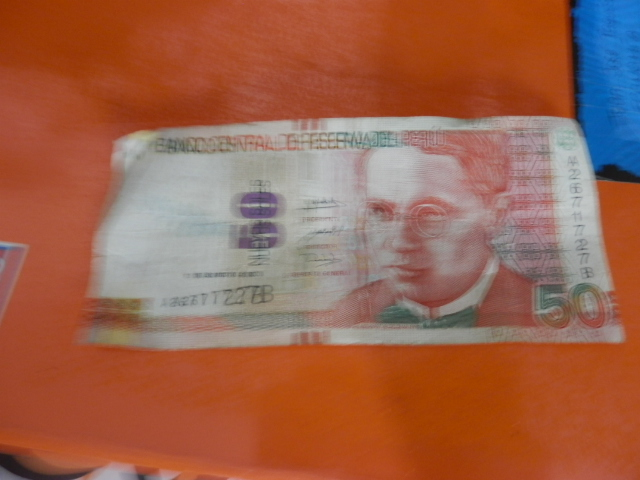B50: (96, 112, 624, 366)
